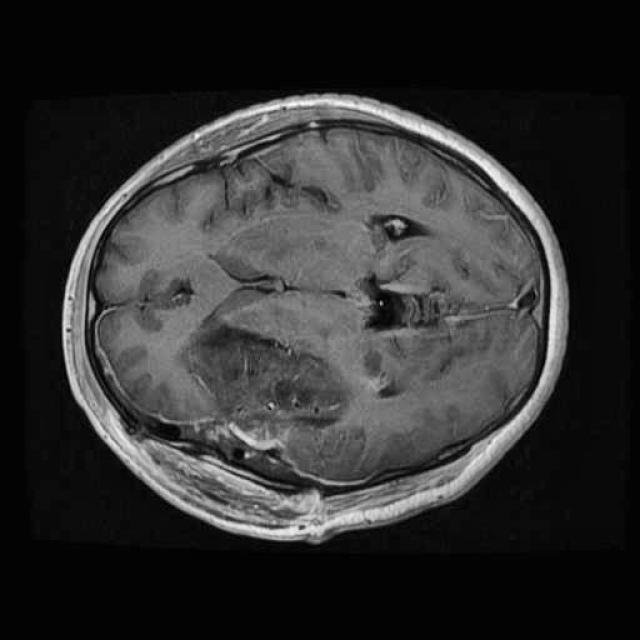Tumor: (174, 299, 364, 462)
